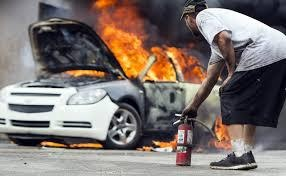fire: (93, 4, 207, 83), (143, 110, 237, 152)
